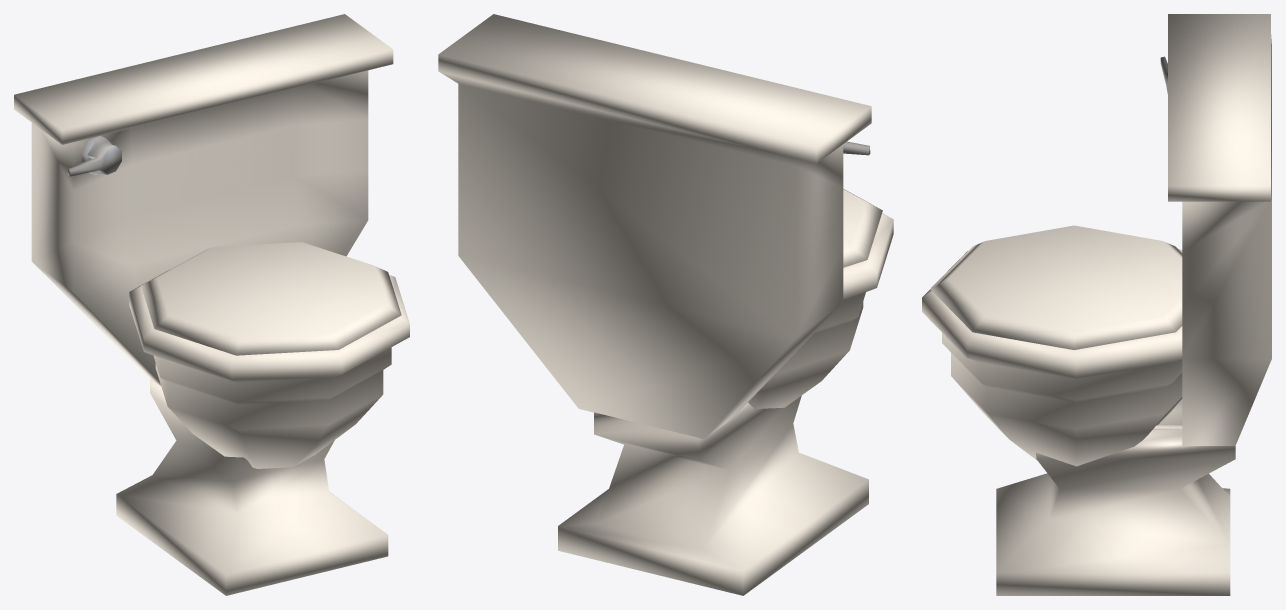
File: toilet_boring.glb
3 views of the same model, side by side, from view 1: azimuth 30°, elevation 25°; view 2: azimuth 150°, elevation 25°; view 3: azimuth 270°, elevation 25° (orthographic). The views are drawn at different scales.
Parts seen in each view (by area): view 1: toilet.001, seat.001; view 2: toilet.001, seat.001; view 3: toilet.001, seat.001.
Boxes of the visible parts, x1,y1,x2,y2 form: toilet.001: (14,14,409,595); seat.001: (141,242,401,355); toilet.001: (438,14,893,595); seat.001: (843,189,882,267); toilet.001: (922,14,1271,595); seat.001: (930,225,1182,349).
Size of the model in its own units: 0.7816 by 0.9645 by 0.6729.
Materials: 4 (2 with a texture image).
